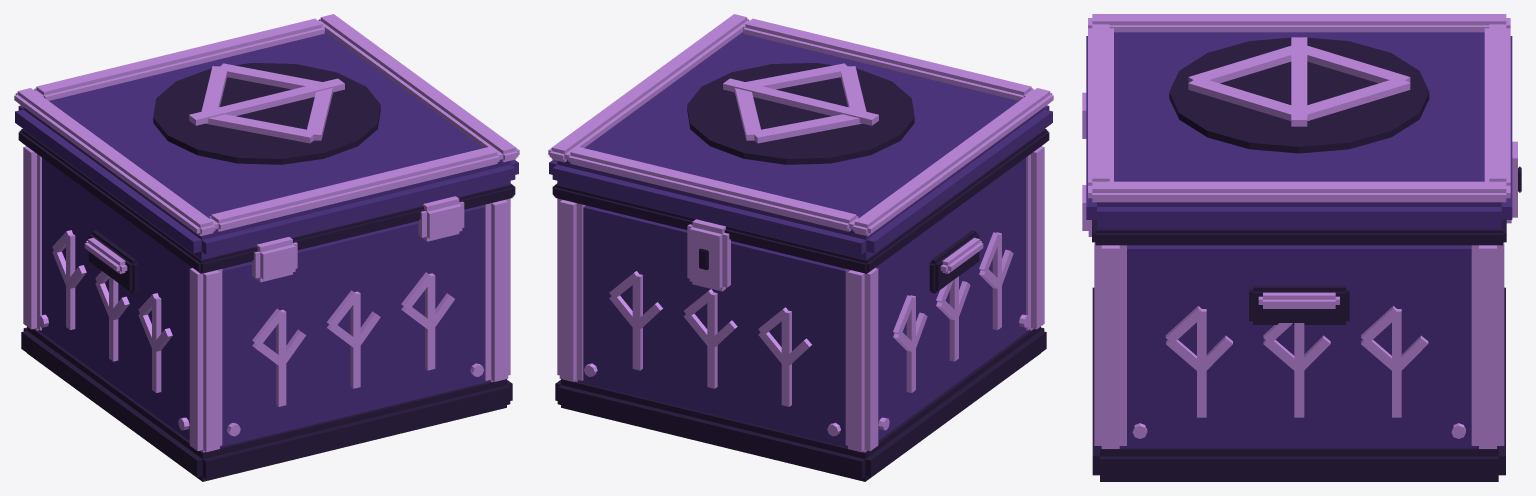
File: crate_runica.fbx
3 renders of one model, left to right at view 1: azimuth 30°, elevation 25°; view 2: azimuth 150°, elevation 25°; view 3: azimuth 270°, elevation 25°, orthographic. The views are drawn at different scales.
Visible parts, largest first — view 1: crate_runica_caixa, crate_runica_caixa_neon; view 2: crate_runica_caixa, crate_runica_caixa_neon; view 3: crate_runica_caixa, crate_runica_caixa_neon.
Part boxes in pixels (x1,y1,x2,y2): crate_runica_caixa: (14,14,519,481); crate_runica_caixa_neon: (52,63,454,406); crate_runica_caixa: (548,14,1053,481); crate_runica_caixa_neon: (609,63,1013,406); crate_runica_caixa: (1082,14,1521,481); crate_runica_caixa_neon: (1165,37,1428,417).
Bounding box in the file's own units: 2.68 × 2.17 × 2.7.
Materials: 1 (1 with a texture image).
